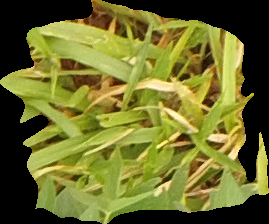grass: (1, 1, 268, 222)
